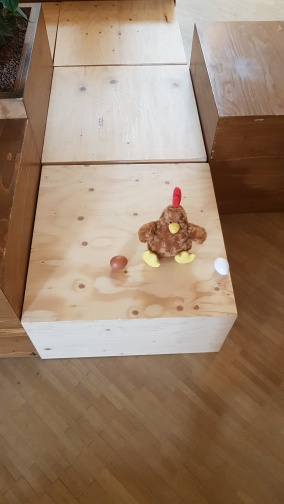chicken: (136, 184, 209, 269)
egg: (212, 255, 231, 275), (108, 254, 129, 271)
